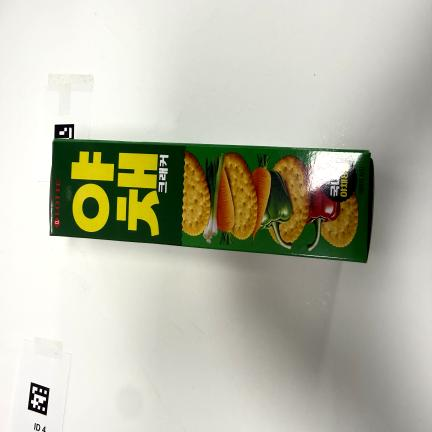cracker_vege: (49, 125, 374, 263)
